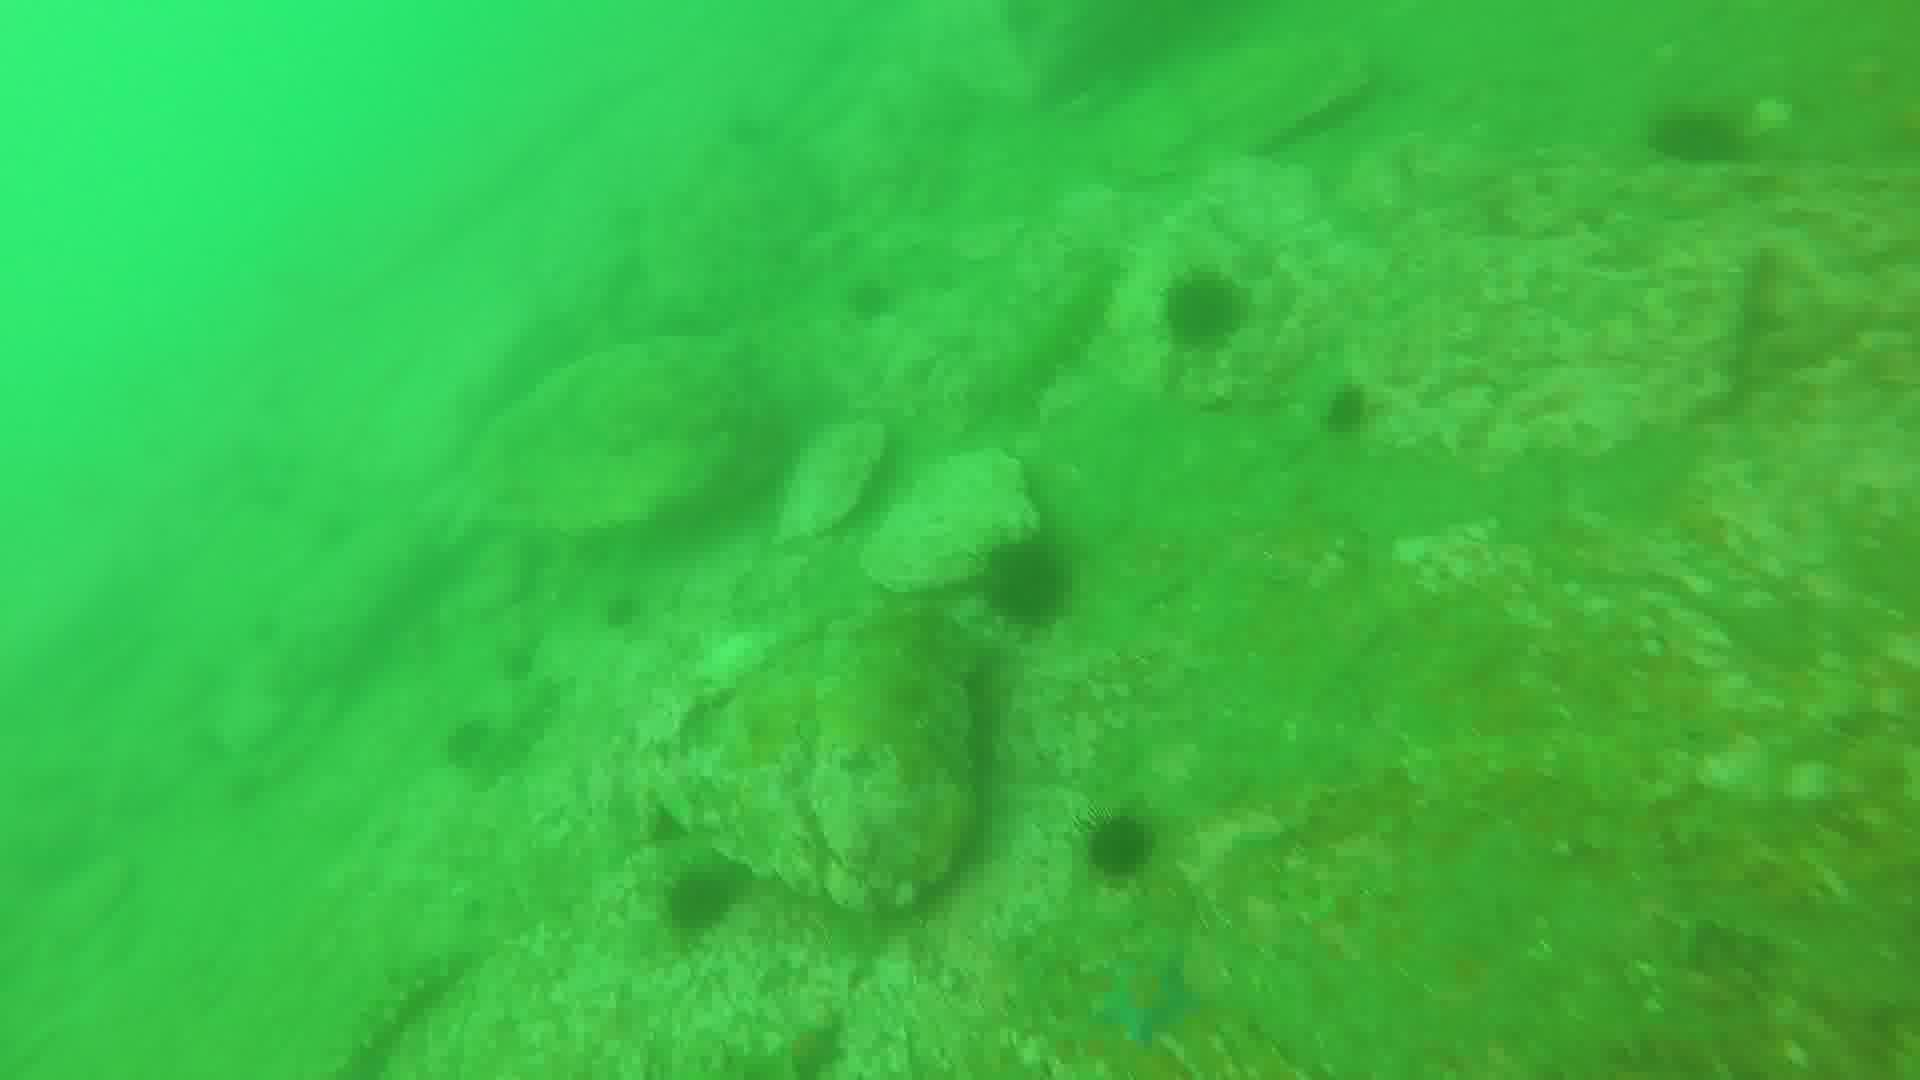echinus: (985, 543, 1076, 638), (1174, 266, 1254, 363), (1647, 108, 1753, 177), (1093, 815, 1160, 886), (671, 866, 735, 942), (1324, 388, 1385, 435), (603, 588, 647, 634)
starfish: (1092, 955, 1212, 1050)
